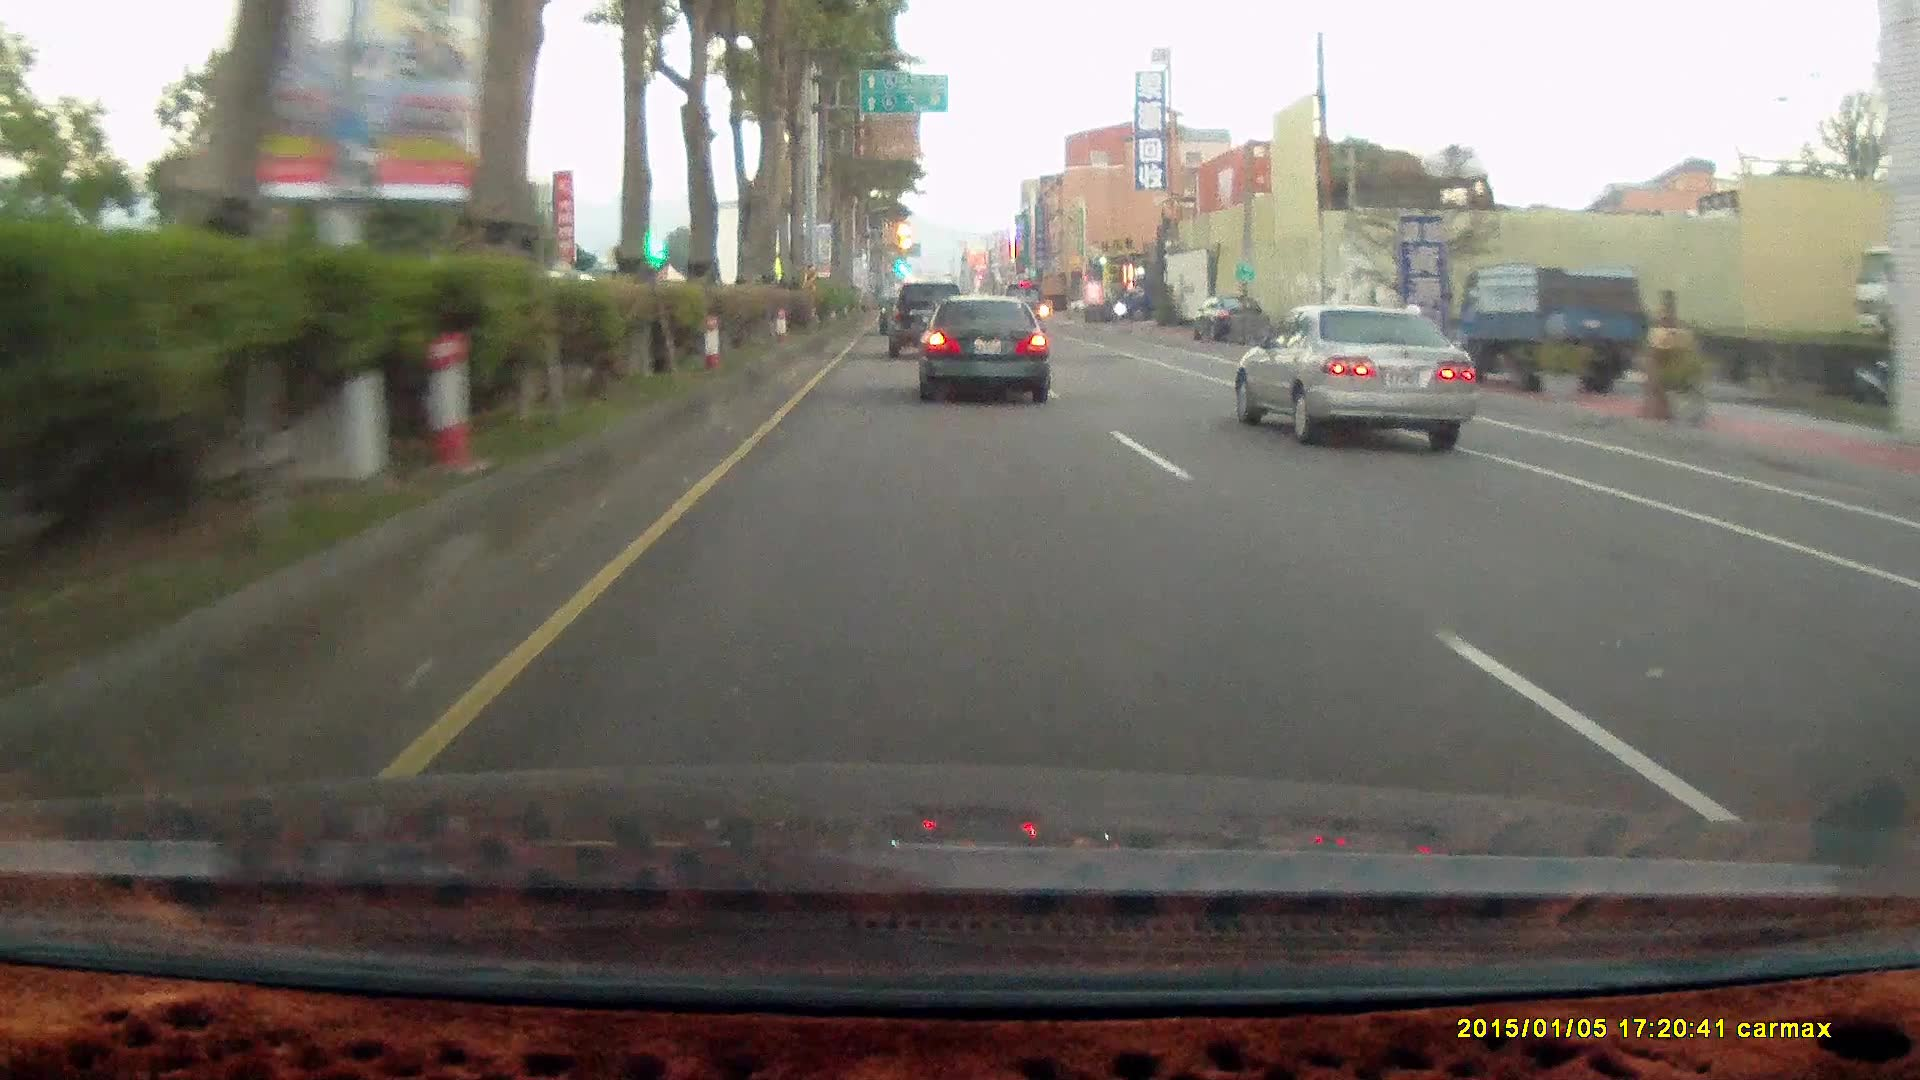vehicle: (1226, 301, 1486, 450), (1232, 301, 1477, 448), (1453, 260, 1640, 396), (1455, 264, 1640, 392), (913, 291, 1048, 400), (920, 295, 1055, 402), (886, 278, 967, 355), (1193, 294, 1274, 344), (1112, 280, 1182, 320)
